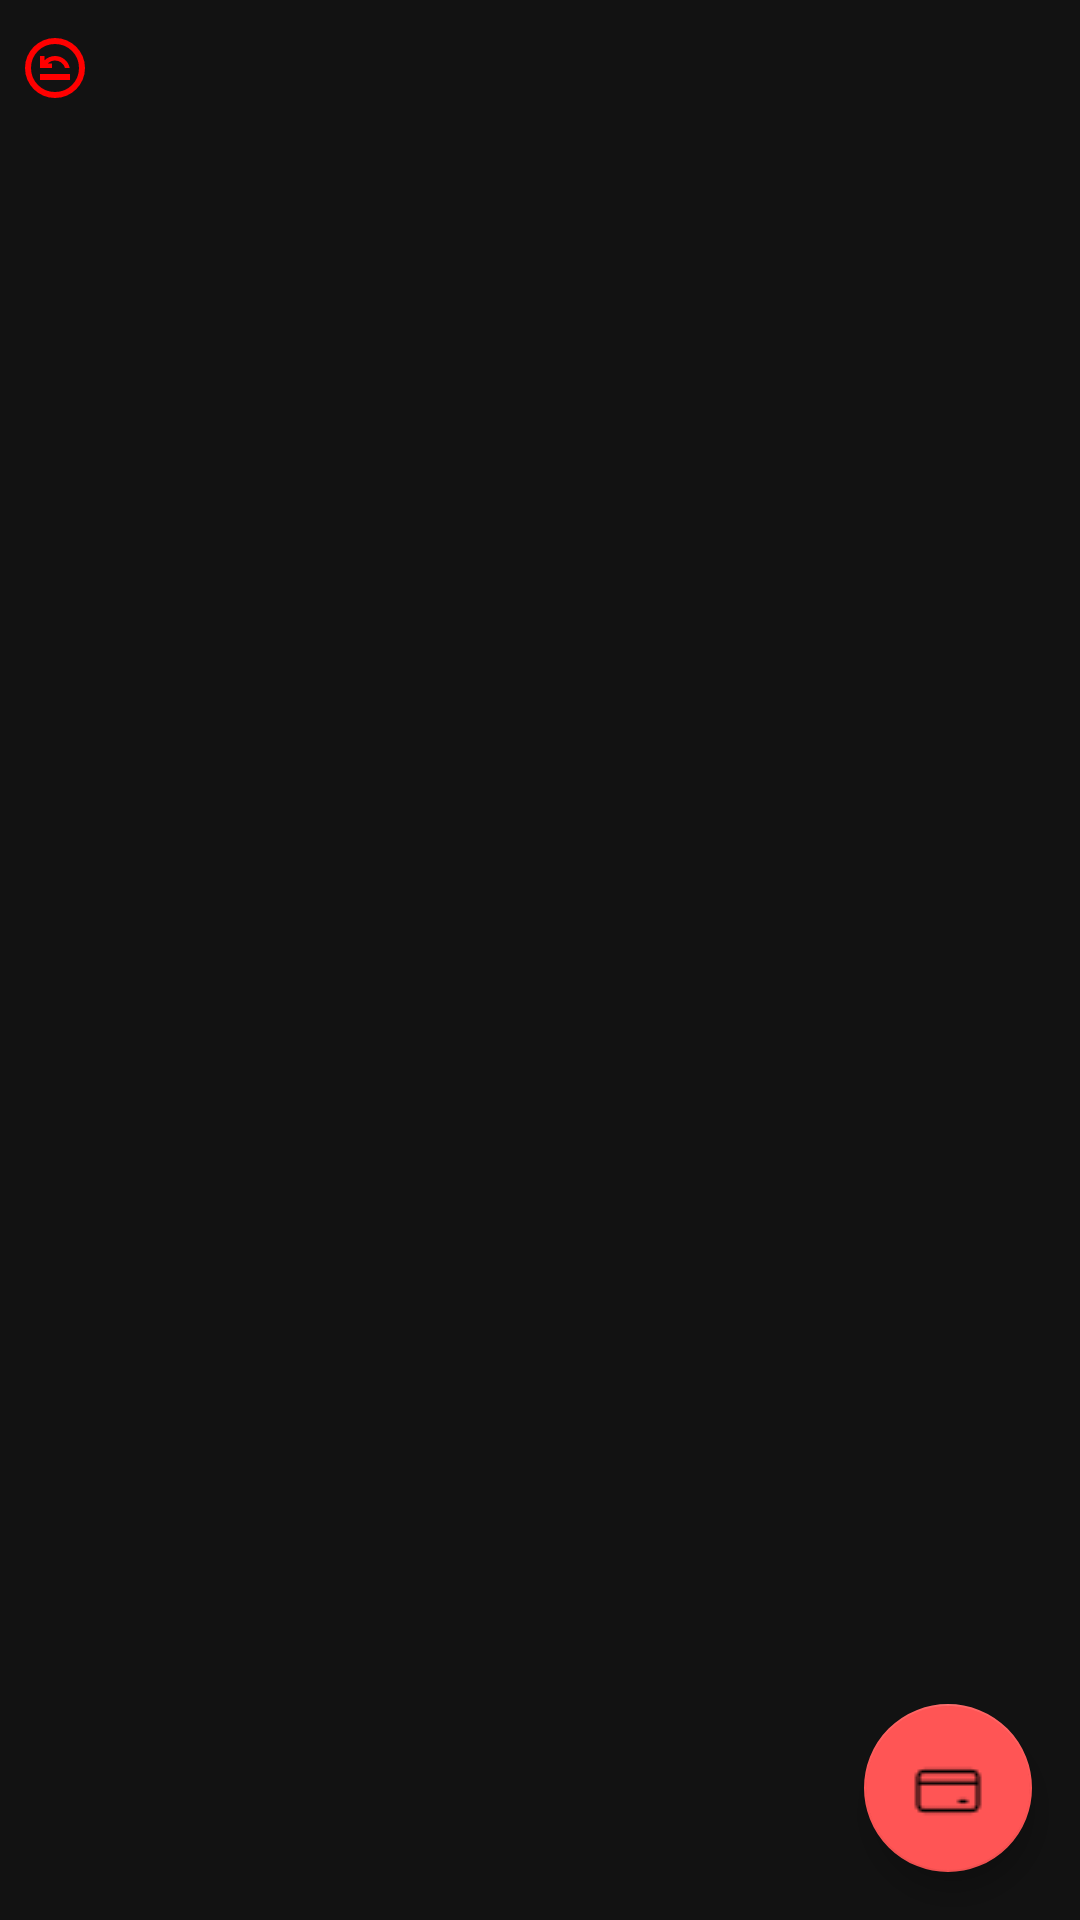

Where icons sit on this 1080x1920 app screen, as (x1, y1, x2, y2):
cartao: (864, 1704, 1032, 1872)
